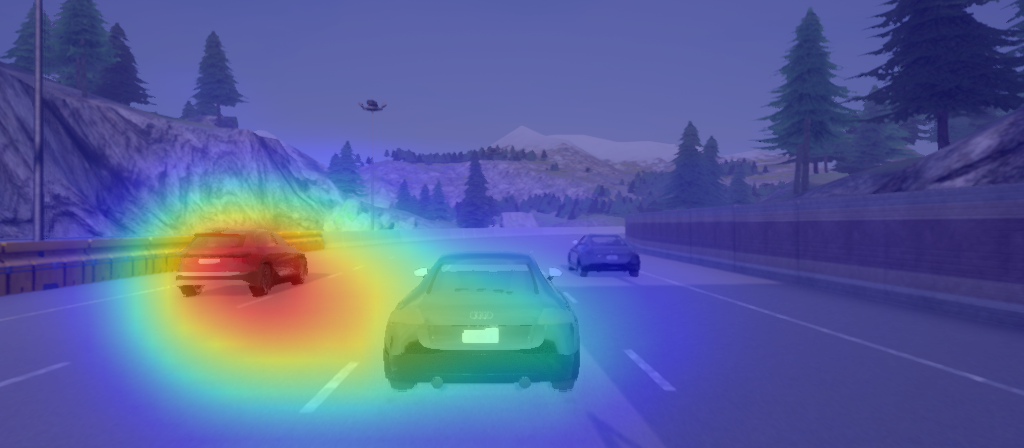Barrier: (663, 203, 1016, 267), (12, 244, 172, 276), (417, 229, 558, 240)
Car: (380, 249, 585, 397), (173, 225, 311, 302), (567, 231, 646, 281)
Lane Marker: (296, 358, 365, 415), (618, 343, 680, 399), (5, 356, 73, 399), (561, 287, 585, 310), (323, 268, 347, 283)
Light Pole: (355, 94, 391, 231), (30, 1, 47, 239)
